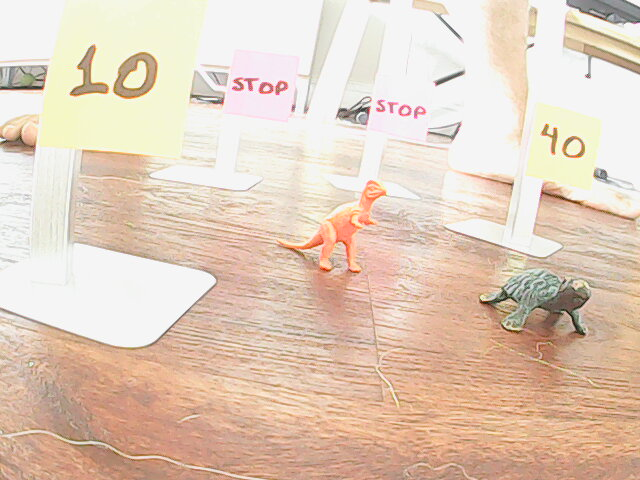10: (54, 6, 185, 137)
40: (536, 114, 592, 179)
dinosaur: (274, 166, 391, 284)
stop: (228, 61, 295, 106), (374, 91, 427, 130)
turtle: (474, 261, 603, 341)
